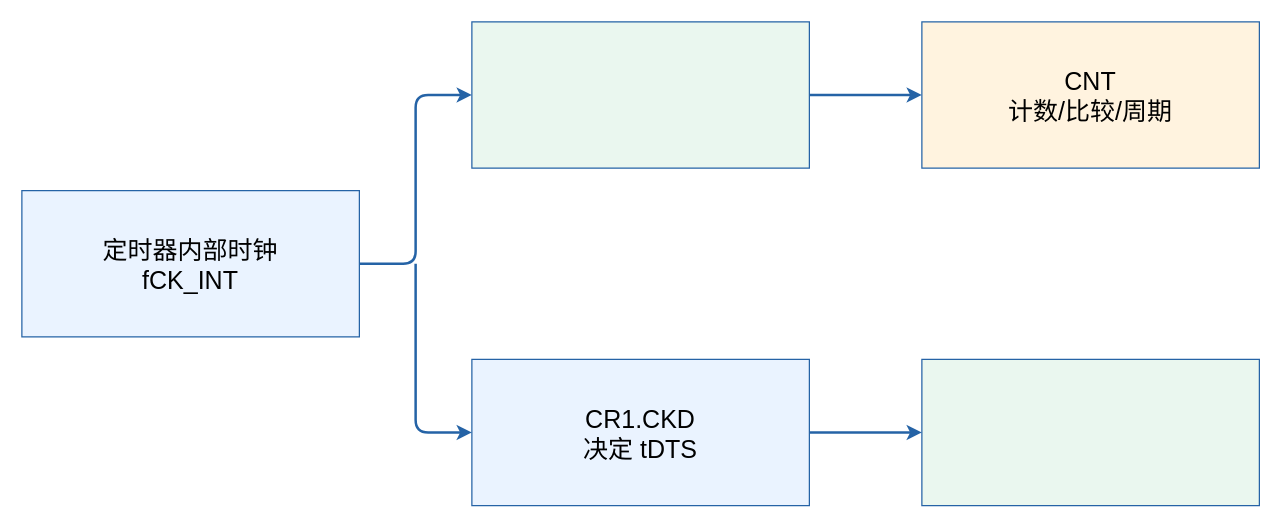
This 1281x528 diagram has some shape labels left out. Each missing label, with the box of its shape:
PSC+1 分频 生成计数节拍: (471, 21, 809, 168)
相关数字滤波 与死区时序: (921, 358, 1259, 506)
